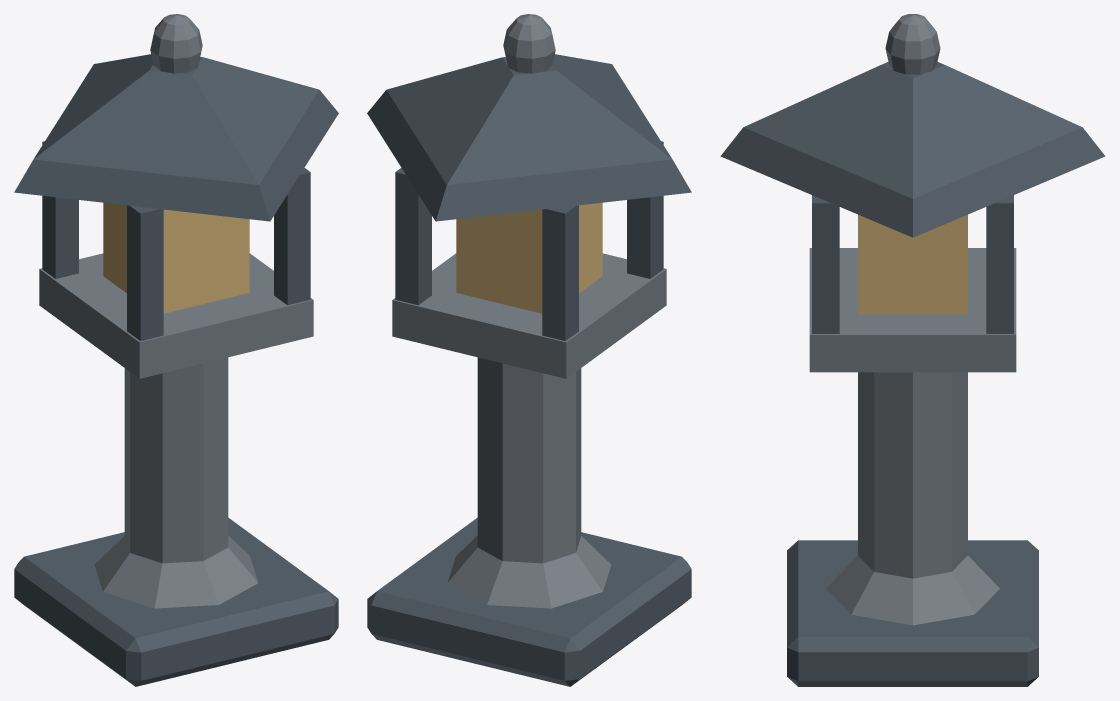
The model's file is stone_lantern.glb.
The picture shows the model from 3 angles, left to right: view 1: azimuth 30°, elevation 25°; view 2: azimuth 150°, elevation 25°; view 3: azimuth 270°, elevation 25°; orthographic projection. The views are drawn at different scales.
Parts seen in each view (by area): view 1: Roof, Pedestal, Base, LampBase, LampGlow, LampPost, LampPost.002, LampPost.001, Finial; view 2: Roof, Pedestal, Base, LampBase, LampGlow, LampPost.001, LampPost.003, LampPost, Finial; view 3: Roof, Pedestal, Base, LampBase, LampGlow, LampPost.002, LampPost.003, Finial.
Boxes of the visible parts, bbox=[...] form: Roof: bbox=[14, 54, 338, 221]; Pedestal: bbox=[94, 357, 258, 608]; Base: bbox=[14, 518, 338, 686]; LampBase: bbox=[39, 253, 313, 378]; LampGlow: bbox=[103, 202, 249, 313]; LampPost: bbox=[127, 205, 163, 340]; LampPost.002: bbox=[274, 168, 310, 305]; LampPost.001: bbox=[42, 141, 78, 278]; Finial: bbox=[150, 14, 202, 73]; Roof: bbox=[367, 54, 691, 221]; Pedestal: bbox=[447, 357, 611, 608]; Base: bbox=[367, 518, 691, 686]; LampBase: bbox=[392, 253, 666, 378]; LampGlow: bbox=[456, 202, 602, 313]; LampPost.001: bbox=[542, 205, 578, 340]; LampPost.003: bbox=[395, 168, 431, 305]; LampPost: bbox=[627, 141, 663, 278]; Finial: bbox=[503, 14, 555, 73]; Roof: bbox=[720, 62, 1105, 237]; Pedestal: bbox=[826, 372, 999, 625]; Base: bbox=[787, 540, 1038, 686]; LampBase: bbox=[809, 248, 1016, 372]; LampGlow: bbox=[858, 214, 967, 314]; LampPost.002: bbox=[812, 195, 839, 333]; LampPost.003: bbox=[986, 195, 1013, 333]; Finial: bbox=[885, 14, 940, 74].
Bounding box in the file's own units: 0.84 × 1.5 × 0.84.
Materials: 1 (1 with a texture image).
